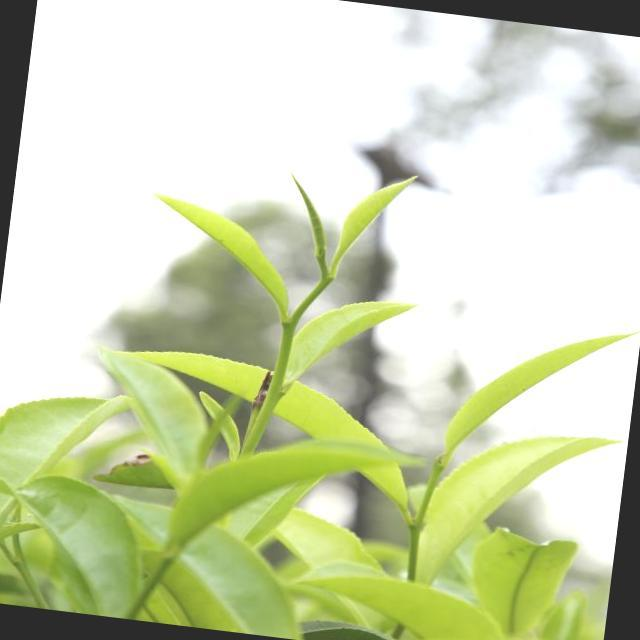Stem: (282, 321, 295, 339), (409, 524, 420, 544)
